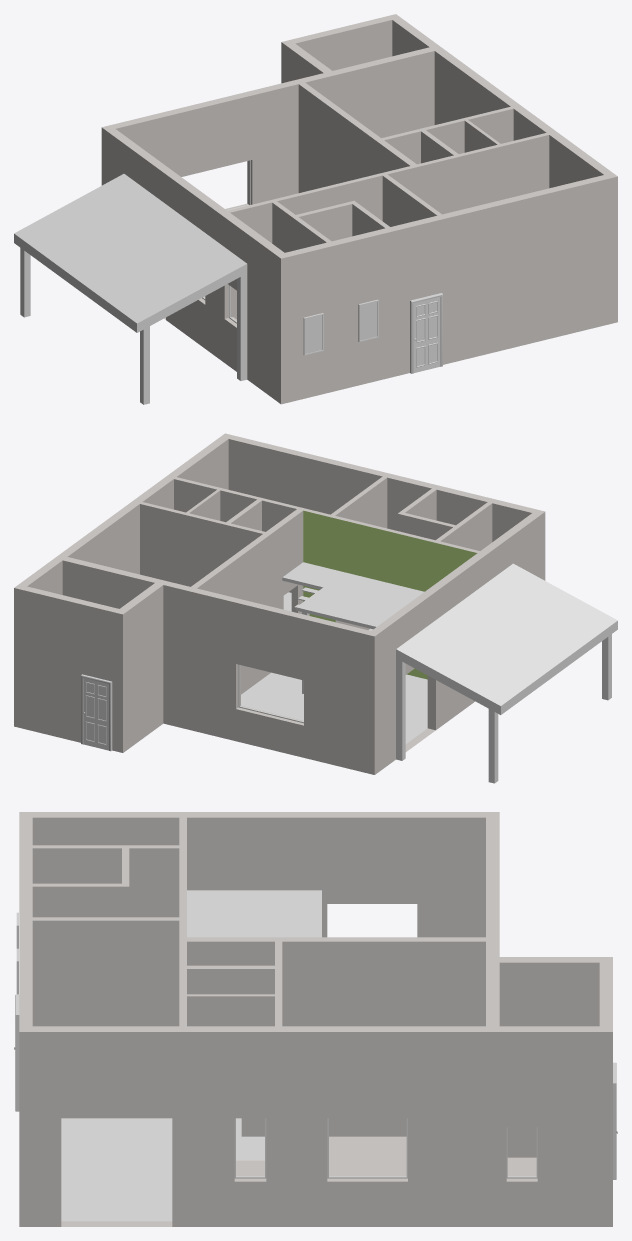
The model's file is villa 3d render.glb.
3 views of the same model, one above another, from view 1: azimuth 30°, elevation 25°; view 2: azimuth 150°, elevation 25°; view 3: azimuth 270°, elevation 25° (orthographic). The views are drawn at different scales.
Visible parts, largest first — view 1: 3D.2-Mat.3, 3D.2-Mat.1; view 2: 3D.2-Mat.3, 3D.2-Mat.1, 3D.2-Diffuse Plastic 08, 3D.2-Mat.4; view 3: 3D.2-Mat.3, 3D.2-Mat.4, 3D.2-Mat.1.
Part boxes in pixels (x1=…): 3D.2-Mat.3: x1=101, y1=14, x2=617, y2=404; 3D.2-Mat.1: x1=14, y1=160, x2=442, y2=404; 3D.2-Mat.3: x1=14, y1=433, x2=545, y2=774; 3D.2-Mat.1: x1=81, y1=562, x2=617, y2=783; 3D.2-Diffuse Plastic 08: x1=303, y1=510, x2=477, y2=679; 3D.2-Mat.4: x1=241, y1=592, x2=427, y2=743; 3D.2-Mat.3: x1=19, y1=812, x2=612, y2=1226; 3D.2-Mat.4: x1=61, y1=1118, x2=264, y2=1221; 3D.2-Mat.1: x1=14, y1=890, x2=617, y2=1179.
Size of the model in its own units: 1380 by 430 by 1207.
